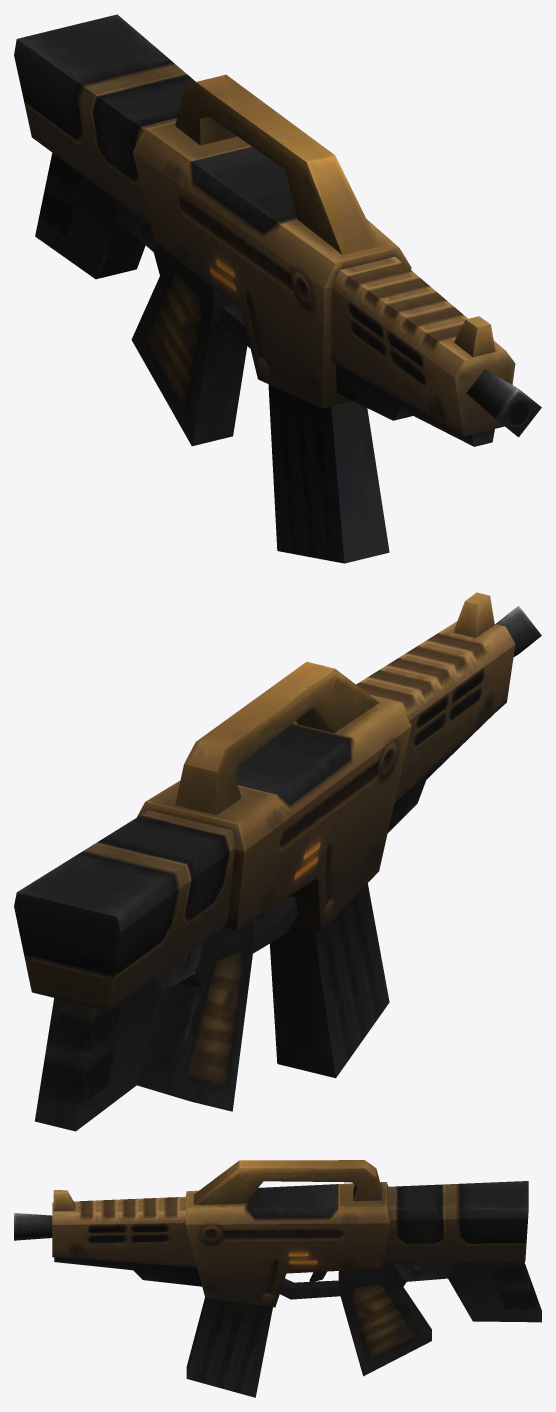
File: Weapon_MachineGun_03.obj
The picture shows the model from 3 angles, top to bottom: view 1: azimuth 30°, elevation 25°; view 2: azimuth 150°, elevation 25°; view 3: azimuth 270°, elevation 25°; orthographic projection. The views are drawn at different scales.
Size of the model in its own units: 0.1588 by 0.5377 by 1.14.
1 material, 1 textured.
